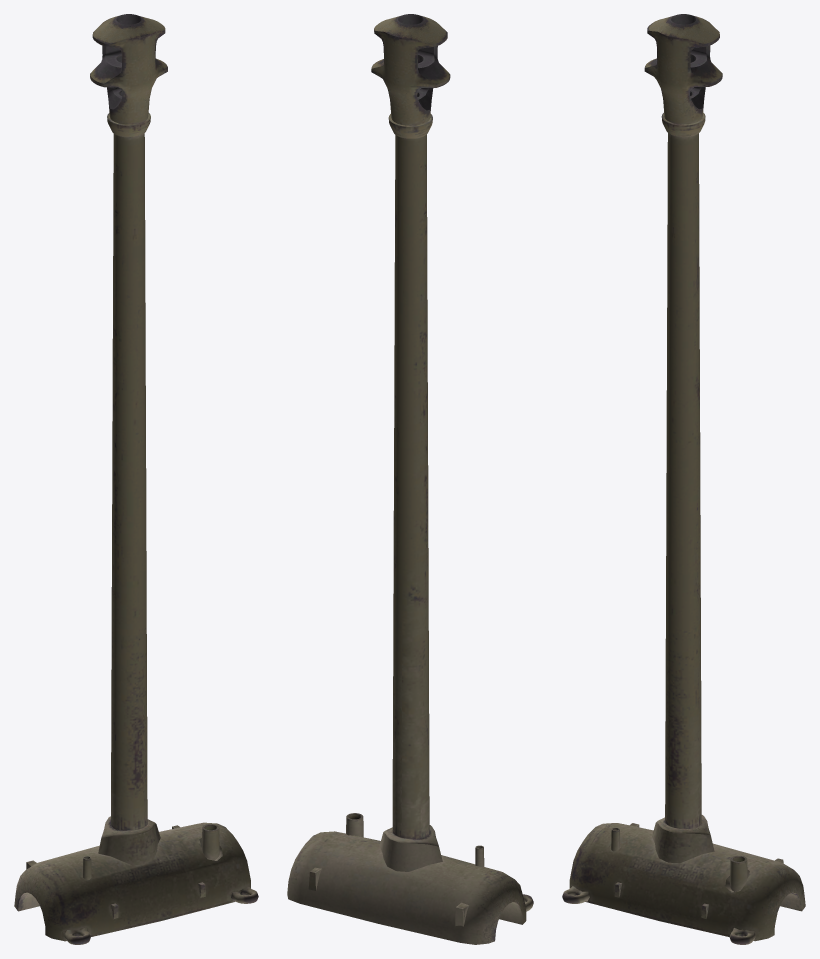
Rendered from Gun_03.glb.
The picture shows the model from 3 angles, left to right: view 1: azimuth 30°, elevation 25°; view 2: azimuth 150°, elevation 25°; view 3: azimuth 330°, elevation 25°; orthographic projection.
Visible parts, largest first — view 1: set_0_group_0; view 2: set_0_group_0; view 3: set_0_group_0.
Boxes of the visible parts, x1,y1,x2,y2 form: set_0_group_0: [14, 14, 258, 944]; set_0_group_0: [287, 14, 533, 944]; set_0_group_0: [562, 14, 805, 944].
Size of the model in its own units: 1.39 by 5.79 by 0.7627.
1 material, 1 textured.
